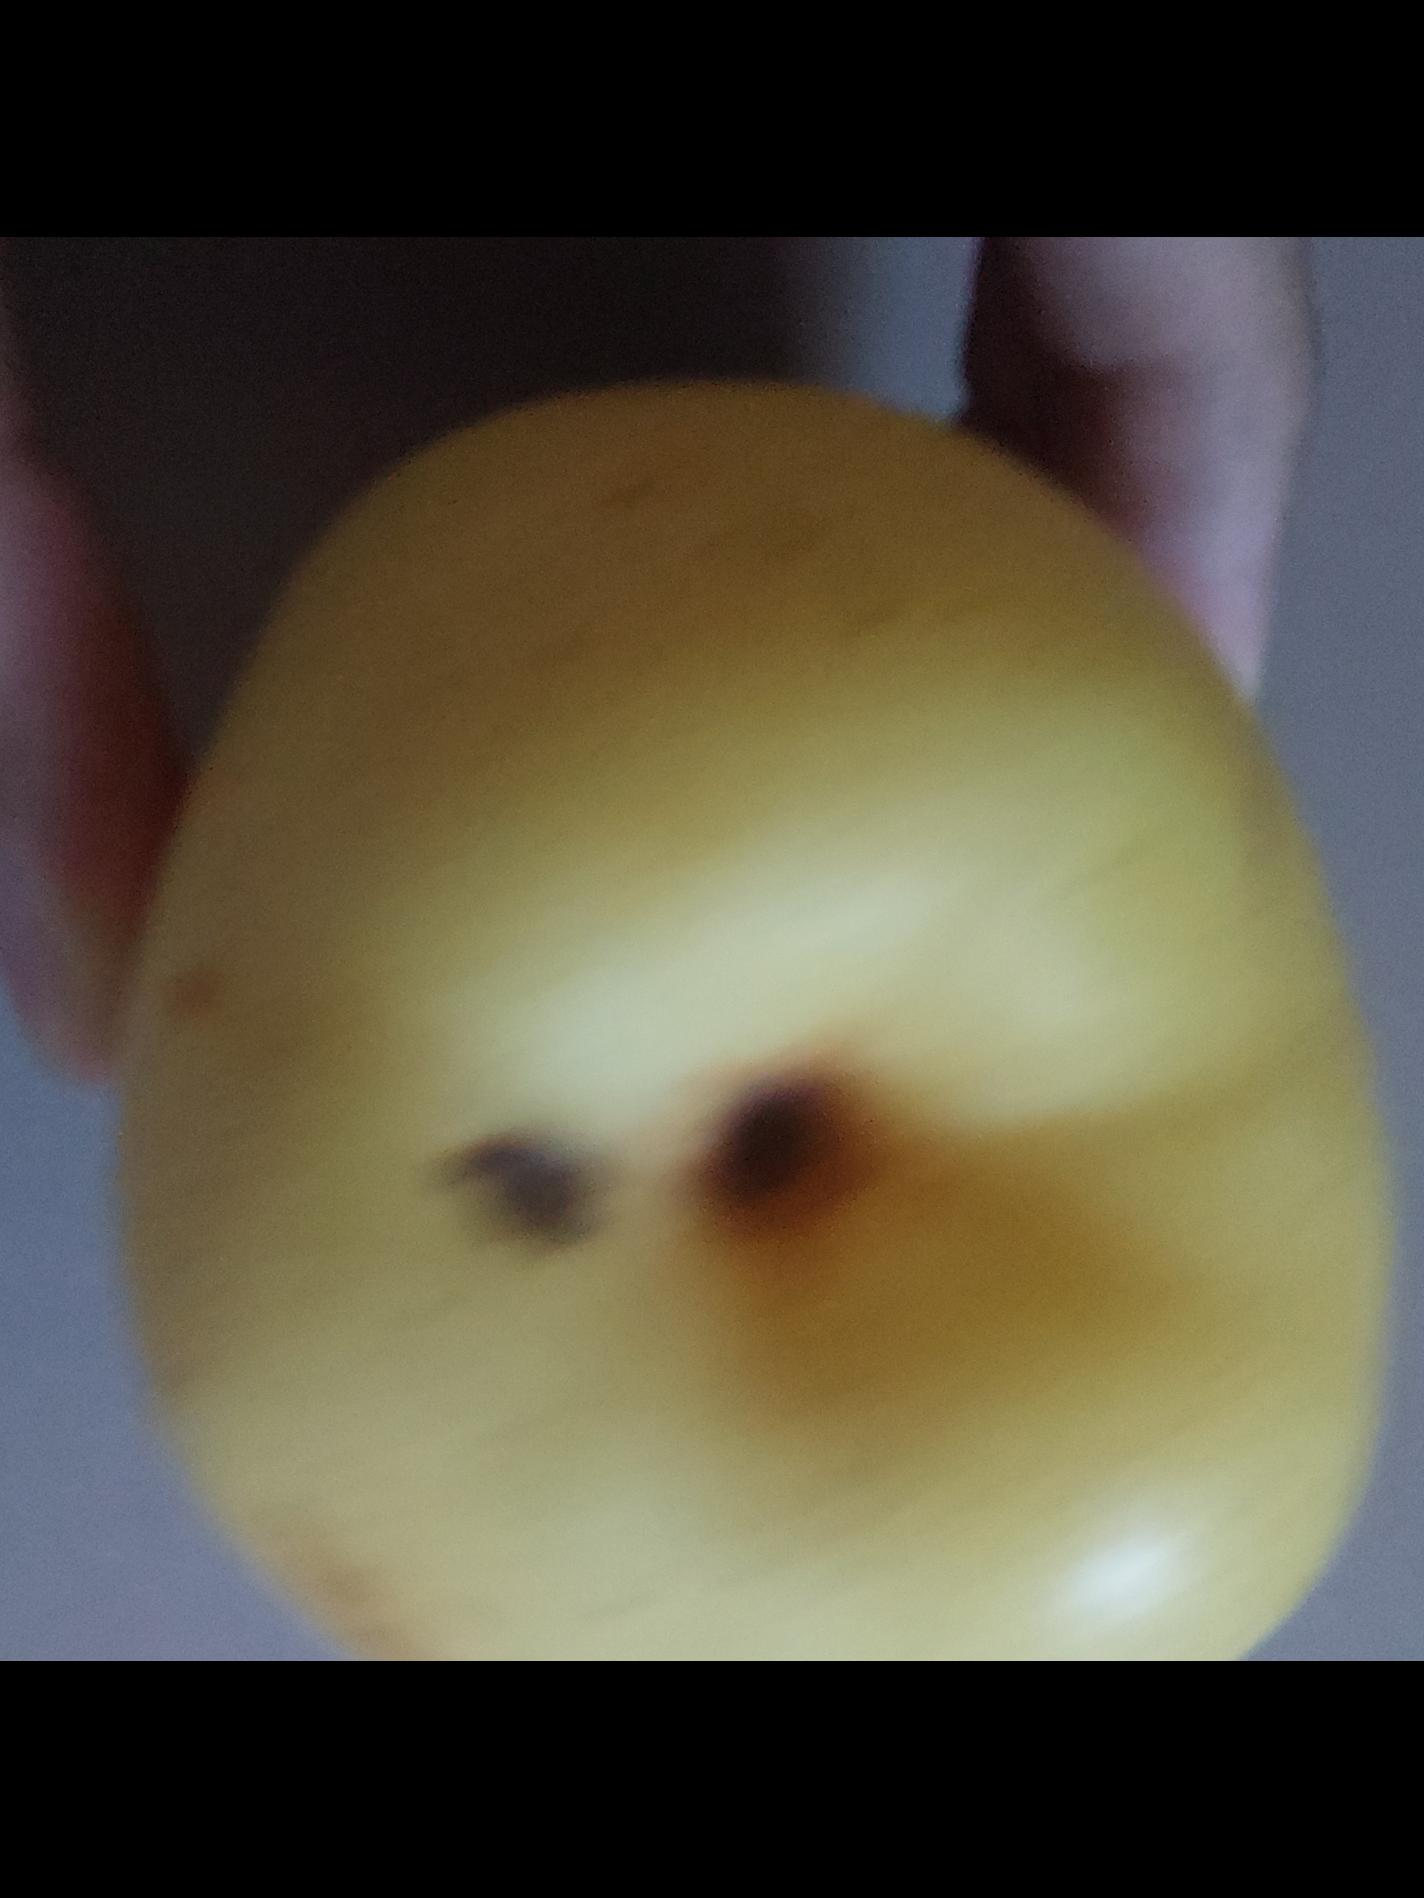Good Pear: (135, 390, 1406, 1662)
